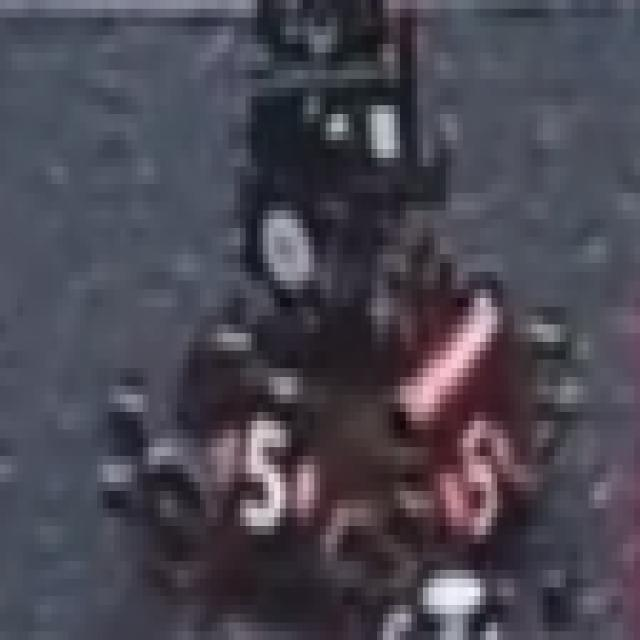R5: (211, 403, 320, 544), (429, 394, 514, 535)
